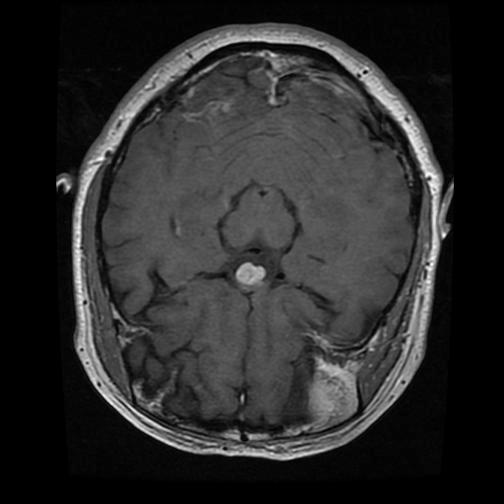Tumour-Pituitary: (232, 261, 270, 290)
